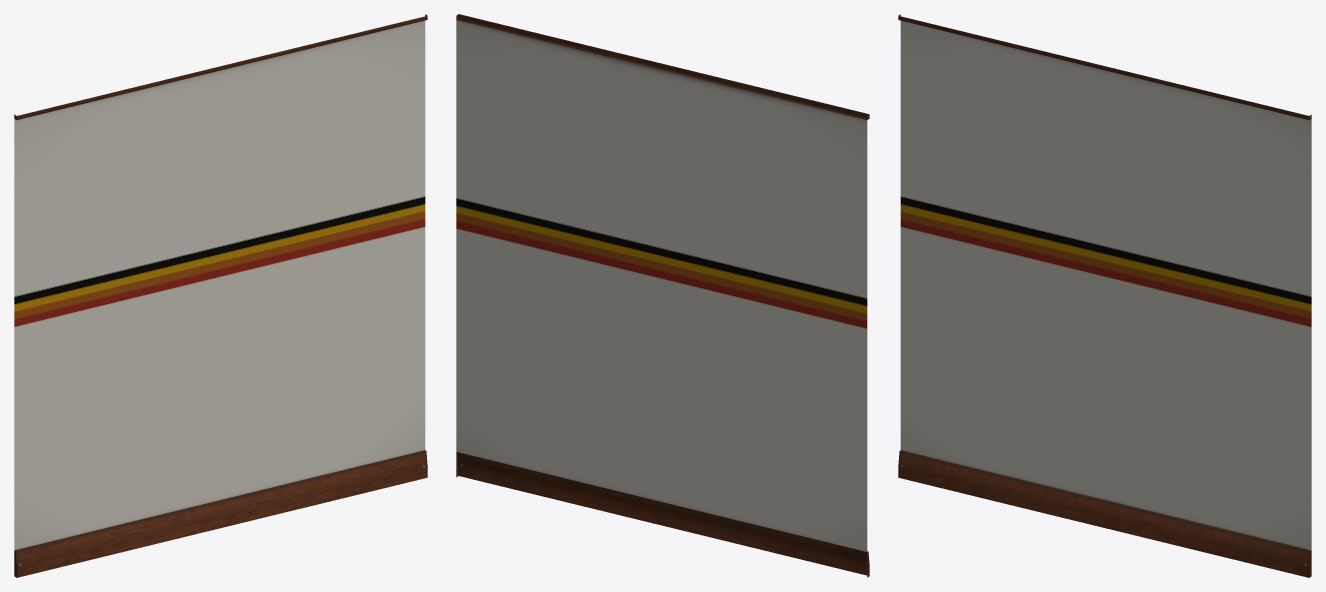
File: video_store_wall.fbx
3 views of the same model, side by side, from view 1: azimuth 30°, elevation 25°; view 2: azimuth 150°, elevation 25°; view 3: azimuth 330°, elevation 25° (orthographic).
Visible parts, largest first — view 1: Mesh1_Group2_Group1_Model; view 2: Mesh1_Group2_Group1_Model; view 3: Mesh1_Group2_Group1_Model.
Boxes of the visible parts, x1,y1,x2,y2 form: Mesh1_Group2_Group1_Model: (14, 14, 427, 577); Mesh1_Group2_Group1_Model: (456, 14, 869, 577); Mesh1_Group2_Group1_Model: (898, 14, 1311, 577).
Bounding box in the file's own units: 200 × 215 × 2.
1 material, 1 textured.
